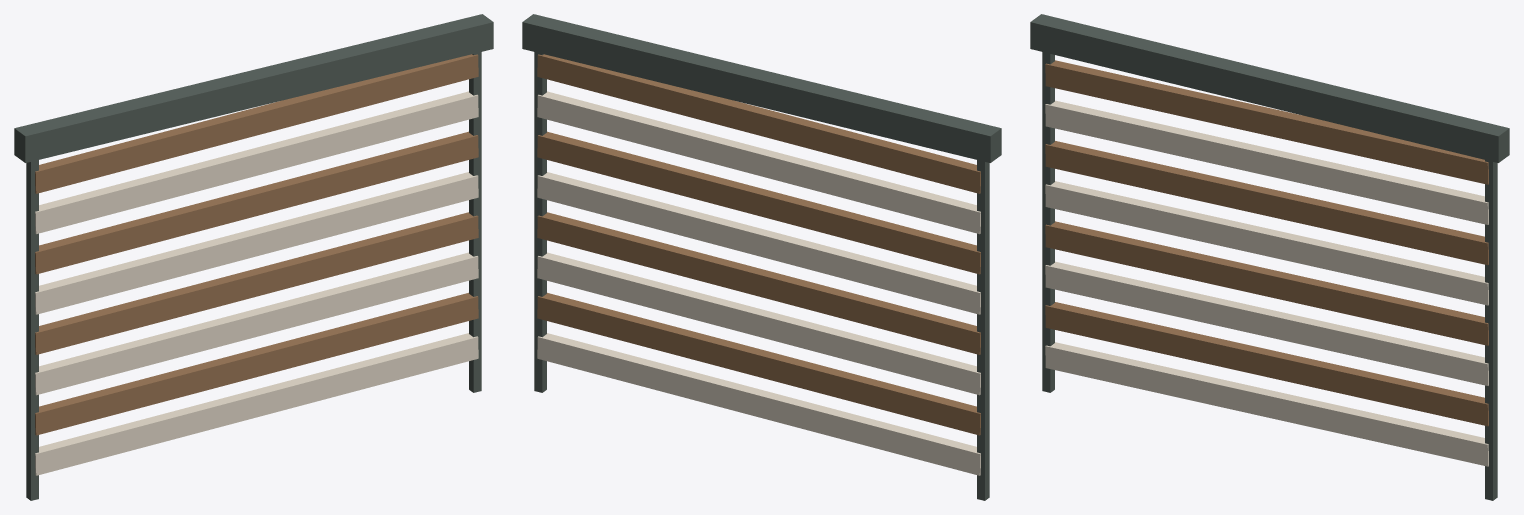
3 views of the same model, side by side, from view 1: azimuth 30°, elevation 25°; view 2: azimuth 150°, elevation 25°; view 3: azimuth 330°, elevation 25° (orthographic).
Visible parts, largest first — view 1: cover-head, cover-slat-5, cover-slat-7, cover-slat-1, cover-slat-3, cover-slat-4, cover-slat-6, cover-slat-2, cover-slat-0, cover-left-guide, cover-right-guide; view 2: cover-head, cover-slat-5, cover-slat-7, cover-slat-1, cover-slat-3, cover-slat-4, cover-slat-6, cover-slat-2, cover-slat-0, cover-left-guide, cover-right-guide; view 3: cover-head, cover-slat-1, cover-slat-3, cover-slat-2, cover-slat-4, cover-slat-6, cover-slat-7, cover-slat-5, cover-slat-0, cover-right-guide, cover-left-guide.
Boxes of the visible parts, x1,y1,x2,y2 form: cover-head: [14, 14, 493, 162]; cover-slat-5: [35, 252, 478, 395]; cover-slat-7: [35, 333, 478, 475]; cover-slat-1: [35, 91, 478, 234]; cover-slat-3: [35, 172, 478, 314]; cover-slat-4: [35, 212, 478, 354]; cover-slat-6: [35, 292, 478, 435]; cover-slat-2: [35, 131, 478, 274]; cover-slat-0: [35, 54, 478, 193]; cover-left-guide: [26, 160, 38, 500]; cover-right-guide: [469, 52, 481, 392]; cover-head: [522, 14, 1001, 162]; cover-slat-5: [537, 252, 980, 395]; cover-slat-7: [537, 333, 980, 475]; cover-slat-1: [537, 91, 980, 234]; cover-slat-3: [537, 172, 980, 314]; cover-slat-4: [537, 212, 980, 354]; cover-slat-6: [537, 292, 980, 435]; cover-slat-2: [537, 131, 980, 274]; cover-slat-0: [537, 54, 980, 193]; cover-left-guide: [977, 160, 989, 500]; cover-right-guide: [534, 52, 546, 392]; cover-head: [1030, 14, 1509, 162]; cover-slat-1: [1045, 100, 1488, 224]; cover-slat-3: [1045, 181, 1488, 305]; cover-slat-2: [1045, 141, 1488, 265]; cover-slat-4: [1045, 221, 1488, 345]; cover-slat-6: [1045, 302, 1488, 426]; cover-slat-7: [1045, 342, 1488, 466]; cover-slat-5: [1045, 261, 1488, 385]; cover-slat-0: [1045, 60, 1488, 184]; cover-right-guide: [1485, 160, 1497, 500]; cover-left-guide: [1042, 52, 1054, 392].
Bounding box in the file's own units: 1.46 × 1.1 × 0.06.
